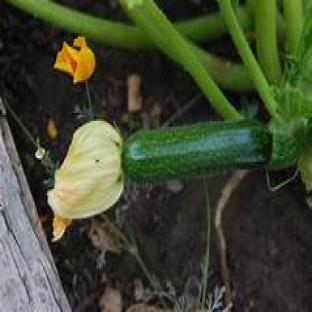Zucchini: (122, 121, 272, 181)
